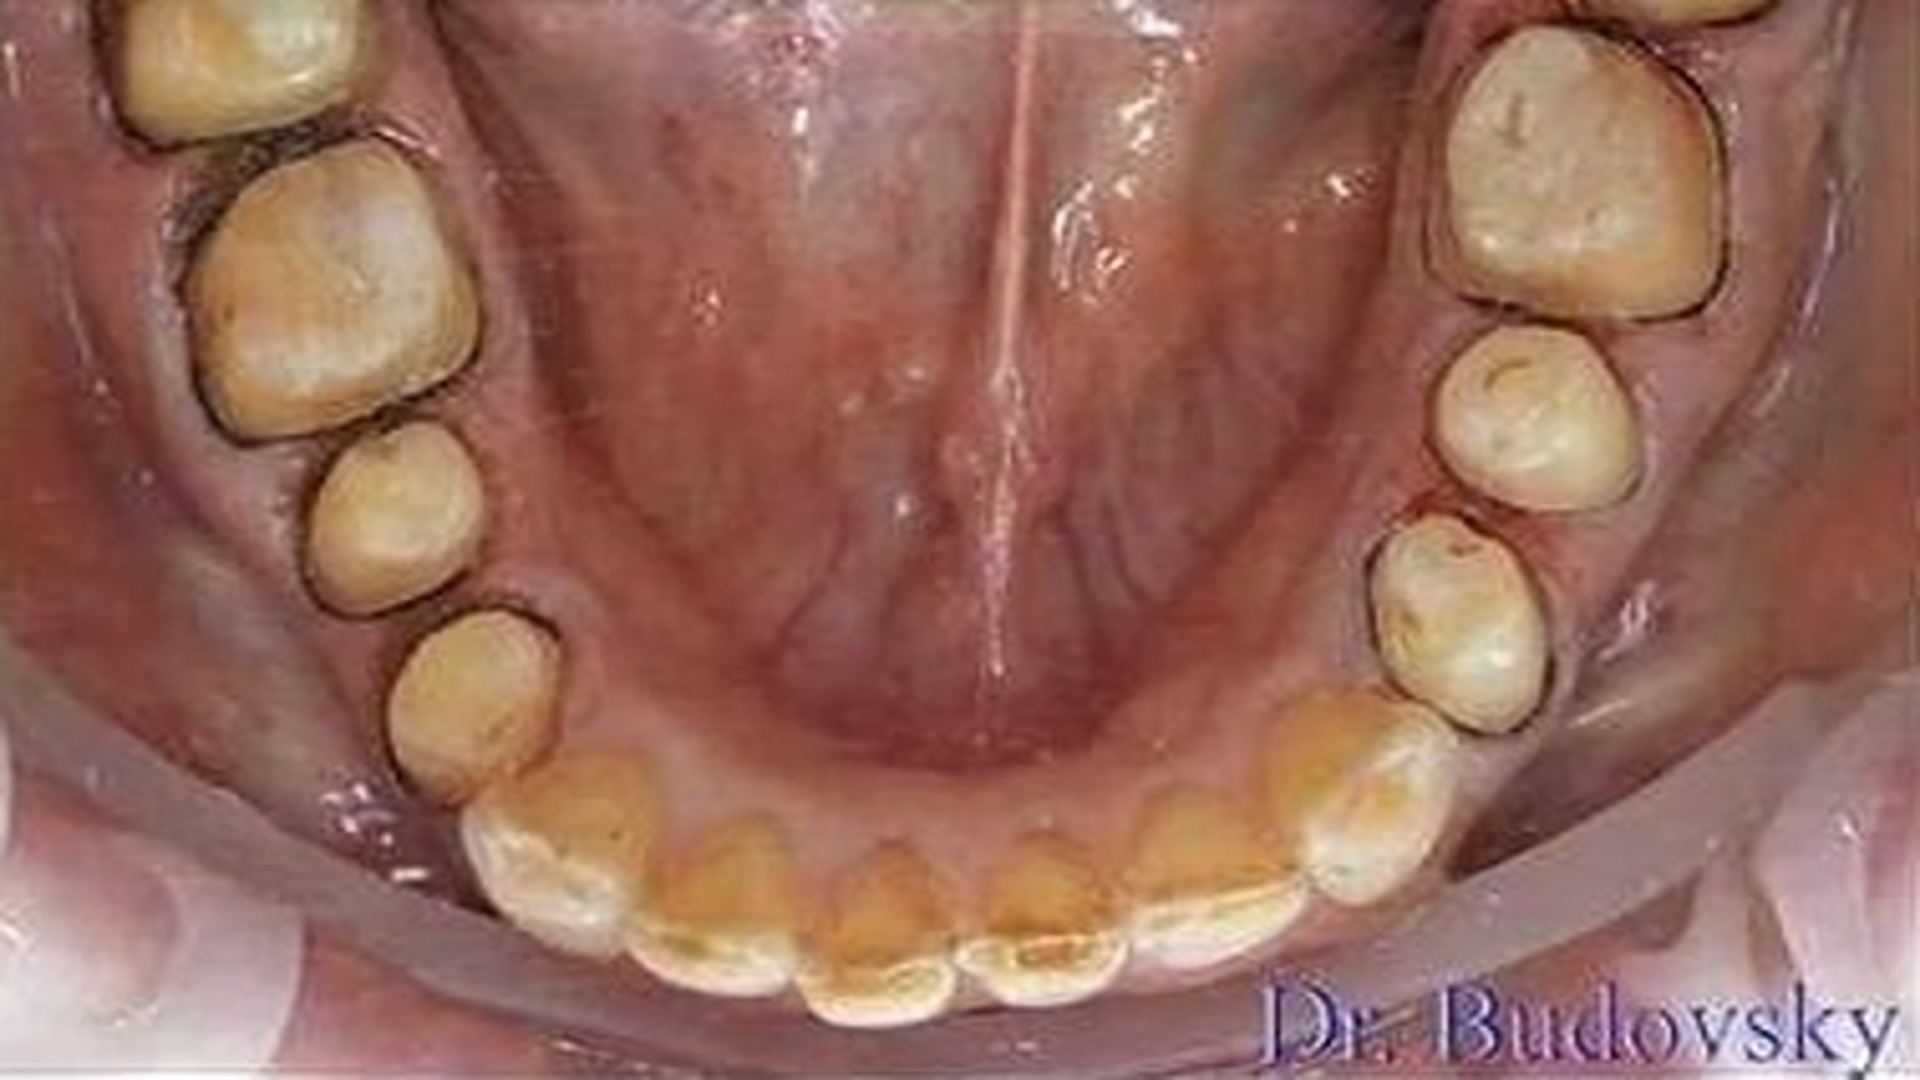tooth: (175, 133, 479, 439), (1447, 25, 1729, 323), (1261, 683, 1469, 907), (1367, 508, 1557, 735), (459, 757, 665, 960), (1429, 324, 1646, 513), (295, 421, 484, 617), (385, 611, 564, 808), (1118, 783, 1308, 967), (942, 833, 1138, 1007), (793, 843, 956, 1025), (626, 829, 800, 997)
